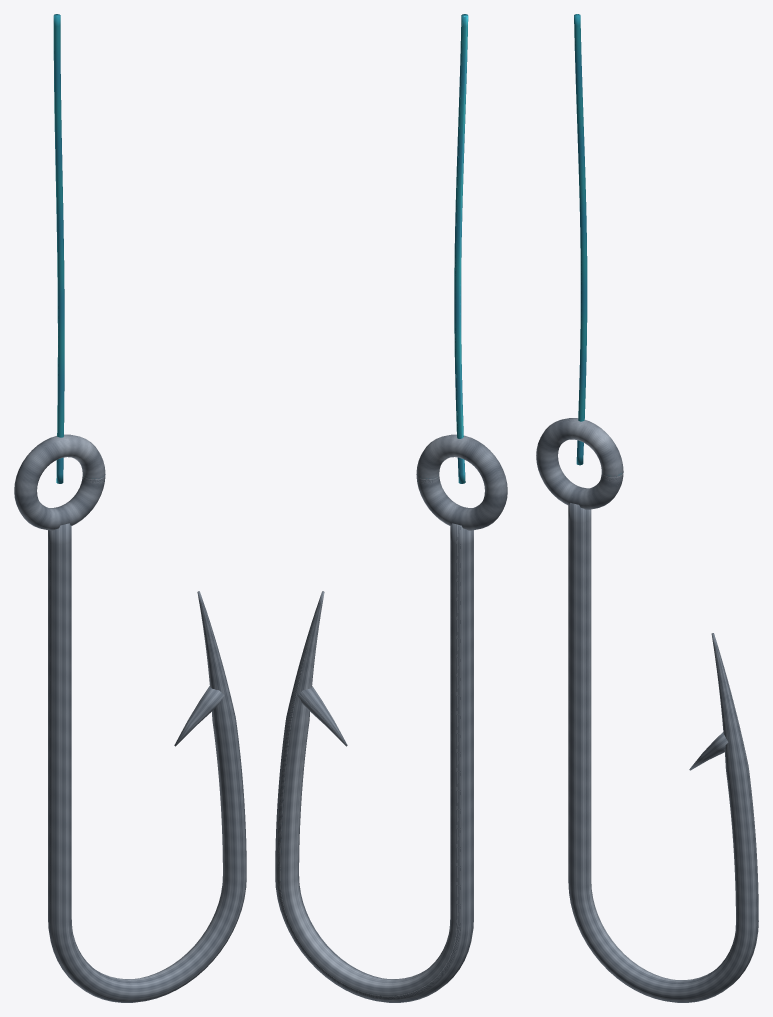
Rendered from fishingHook.obj.
3 views of the same model, side by side, from view 1: azimuth 30°, elevation 25°; view 2: azimuth 150°, elevation 25°; view 3: azimuth 330°, elevation 25° (orthographic). The views are drawn at different scales.
Parts seen in each view (by area): view 1: Fishing_Hook_And_Line; view 2: Fishing_Hook_And_Line; view 3: Fishing_Hook_And_Line.
Part boxes in pixels (left/top/right/bottom): Fishing_Hook_And_Line: left=14, top=14, right=246, bottom=1002; Fishing_Hook_And_Line: left=275, top=14, right=507, bottom=1002; Fishing_Hook_And_Line: left=536, top=14, right=758, bottom=1002.
Size of the model in its own units: 1.21 by 5.05 by 0.11.
1 material, 1 textured.
